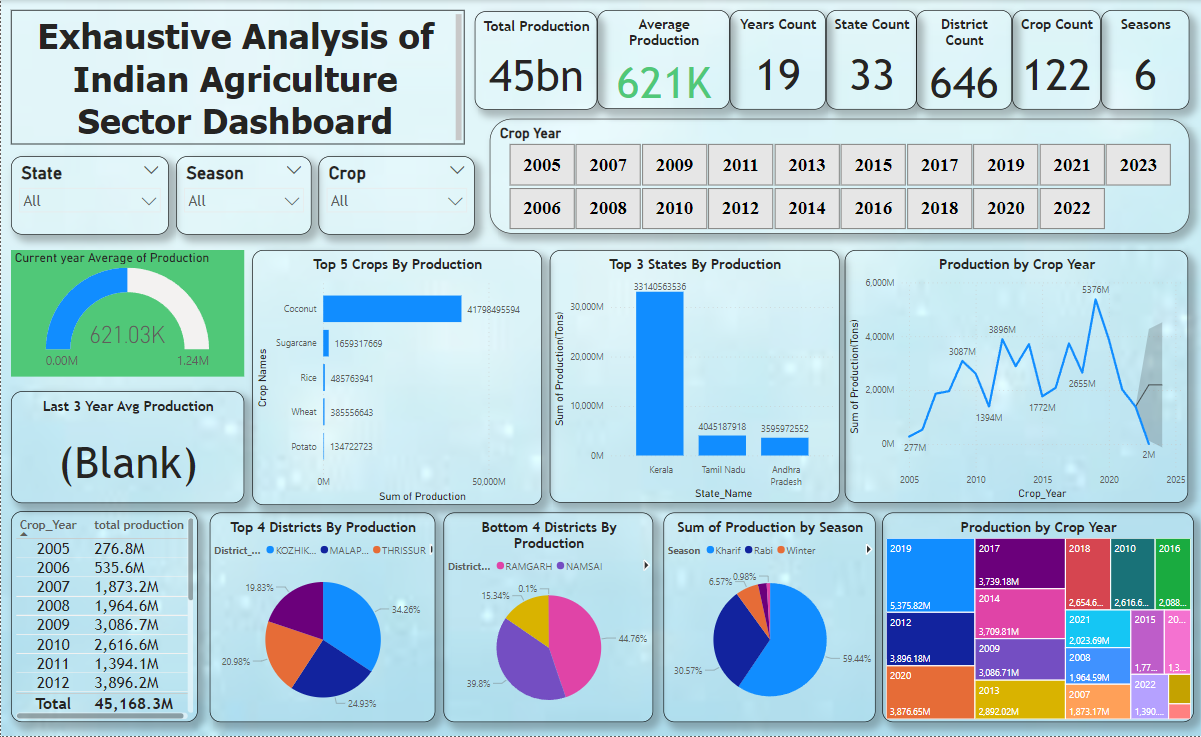

The page's visual inventory and layout, read from the dashboard file:
{"tool":"powerbi","page":{"name":"Dashboard ","canvas":[1630,1000],"ordinal":0},"visuals":[{"type":"slicer","fields":{"Values":["apy_1.Crop_Year"]},"box":[664,162,950,156],"z":0},{"type":"slicer","fields":{"Values":["apy_1.Crop"]},"box":[432,212,212,106],"z":1000},{"type":"slicer","fields":{"Values":["apy_1.State_Name"]},"box":[14,212,214,106],"z":2000},{"type":"barChart","title":"Top 5 Crops By Production ","fields":{"Category":["apy_1.Crop"],"Y":["Sum(apy_1.Production(Tons))"]},"box":[341.7,340,393.3,346.7],"z":3000},{"type":"columnChart","title":"Top 3 States By Production ","fields":{"Category":["apy_1.State_Name"],"Y":["Sum(apy_1.Production(Tons))"]},"box":[745,340,393.3,343.3],"z":4000},{"type":"pieChart","title":"Top 4 Districts By Production ","fields":{"Category":["apy_1.District_Name"],"Y":["Sum(apy_1.Production(Tons))"]},"box":[283.3,696.7,306.7,285],"z":5000},{"type":"pieChart","title":"Bottom 4 Districts By Production ","fields":{"Category":["apy_1.District_Name"],"Y":["Sum(apy_1.Production(Tons))"]},"box":[601.7,696.7,285,285],"z":6000},{"type":"pieChart","title":"Sum of Production by Season","fields":{"Y":["Sum(apy_1.Production(Tons))"],"Category":["apy_1.Season"]},"box":[900,696.7,288.3,285],"z":7000},{"type":"treemap","title":"Production by Crop Year","fields":{"Group":["apy_1.Crop_Year"],"Values":["Sum(apy_1.Production(Tons))"]},"box":[1196.7,696.7,423.3,285],"z":8000},{"type":"slicer","fields":{"Values":["apy_1.Season"]},"box":[238,212,184,106],"z":9000},{"type":"gauge","title":"Current year Average of Production","fields":{"Y":["Avg(apy_1.Production(Tons))"]},"box":[13.3,340,316.7,171.7],"z":10000},{"type":"card","title":"Last 3 Year Avg Production","fields":{"Values":["apy_1.AvgProductionLastthreeYears"]},"box":[13.3,531.7,316.7,151.7],"z":11000},{"type":"card","title":"Average Production","fields":{"Values":["Avg(apy_1.Production(Tons))"]},"box":[810,14,180,134],"z":12000},{"type":"card","title":"Total Production","fields":{"Values":["apy_1.total production"]},"box":[643.3,15,166.7,133.3],"z":13000},{"type":"card","title":"State Count","fields":{"Values":["apy_1.state count"]},"box":[1120,13.3,123.3,135],"z":14000},{"type":"card","title":"District Count ","fields":{"Values":["apy_1.district count"]},"box":[1243.3,13.3,130,135],"z":15000},{"type":"card","title":"Years Count ","fields":{"Values":["apy_1.years count"]},"box":[990,13.3,130,135],"z":16000},{"type":"card","title":"Crop Count","fields":{"Values":["apy_1.crop count"]},"box":[1373.3,13.3,120,135],"z":17000},{"type":"textbox","box":[14,14,616,182],"z":18000},{"type":"card","title":"Seasons","fields":{"Values":["apy_1.season count"]},"box":[1493.3,13.3,120,135],"z":19000},{"type":"tableEx","fields":{"Values":["apy_1.Crop_Year","apy_1.total production"]},"box":[13.3,695,253.3,286.7],"z":20000},{"type":"lineChart","title":"Production by Crop Year","fields":{"Y":["Sum(apy_1.Production(Tons))"],"Category":["apy_1.Crop_Year"]},"box":[1146.7,340,466.7,343.3],"z":21000}]}

Visuals, with their boxes in screenshot pixels (x1, y1, x2, y2), scaled from the page's 1630x1000 canvas onto the 1201x737 screenshot:
slicer - apy_1.Crop_Year: x1=489 y1=119 x2=1189 y2=234
slicer - apy_1.Crop: x1=318 y1=156 x2=475 y2=234
slicer - apy_1.State_Name: x1=10 y1=156 x2=168 y2=234
"Top 5 Crops By Production " barChart: x1=252 y1=251 x2=542 y2=506
"Top 3 States By Production " columnChart: x1=549 y1=251 x2=839 y2=504
"Top 4 Districts By Production " pieChart: x1=209 y1=513 x2=435 y2=724
"Bottom 4 Districts By Production " pieChart: x1=443 y1=513 x2=653 y2=724
"Sum of Production by Season" pieChart: x1=663 y1=513 x2=876 y2=724
"Production by Crop Year" treemap: x1=882 y1=513 x2=1194 y2=724
slicer - apy_1.Season: x1=175 y1=156 x2=311 y2=234
"Current year Average of Production" gauge: x1=10 y1=251 x2=243 y2=377
"Last 3 Year Avg Production" card: x1=10 y1=392 x2=243 y2=504
"Average Production" card: x1=597 y1=10 x2=729 y2=109
"Total Production" card: x1=474 y1=11 x2=597 y2=109
"State Count" card: x1=825 y1=10 x2=916 y2=109
"District Count " card: x1=916 y1=10 x2=1012 y2=109
"Years Count " card: x1=729 y1=10 x2=825 y2=109
"Crop Count" card: x1=1012 y1=10 x2=1100 y2=109
textbox: x1=10 y1=10 x2=464 y2=144
"Seasons" card: x1=1100 y1=10 x2=1189 y2=109
tableEx - apy_1.Crop_Year x apy_1.total production: x1=10 y1=512 x2=196 y2=724
"Production by Crop Year" lineChart: x1=845 y1=251 x2=1189 y2=504
